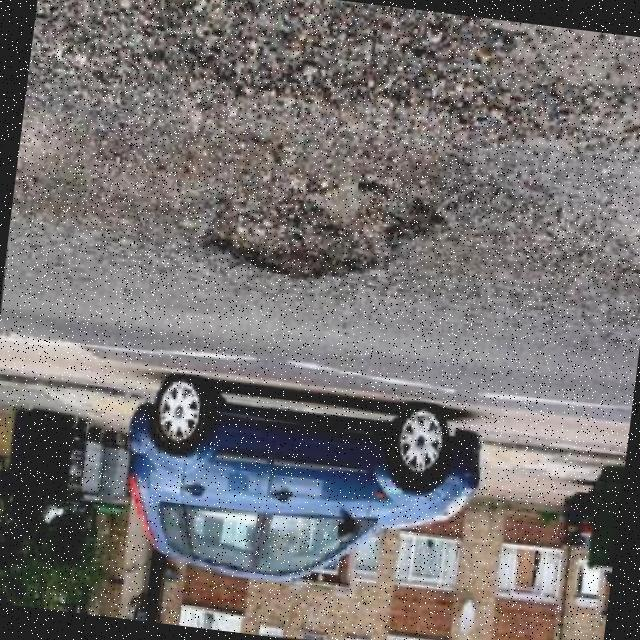Pothole: (204, 185, 444, 279)
